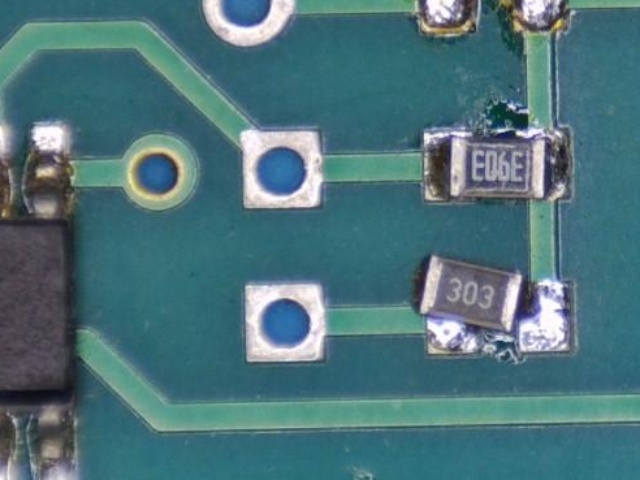pcb_defect: (418, 252, 573, 357)
